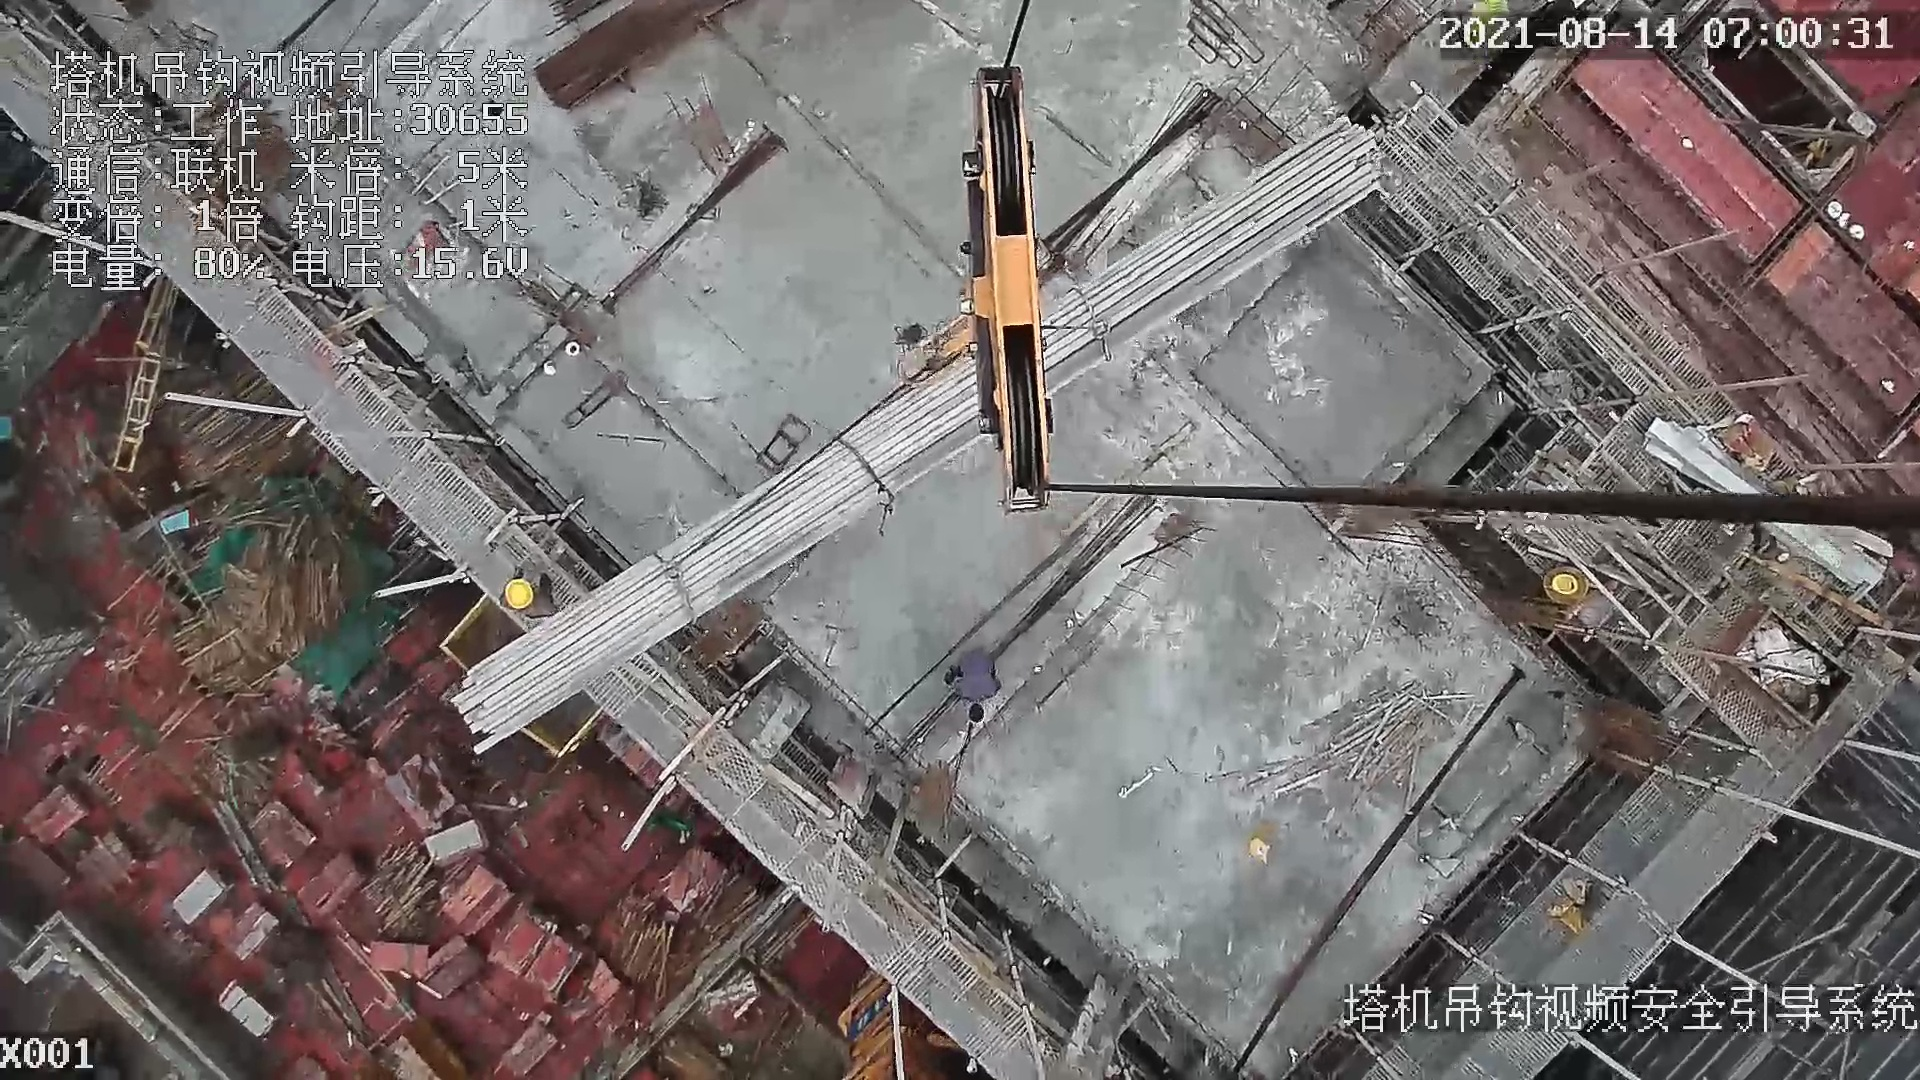helmet: (500, 575, 536, 612)
hook: (897, 59, 1063, 509)
person: (945, 645, 1005, 727), (497, 562, 555, 615)
